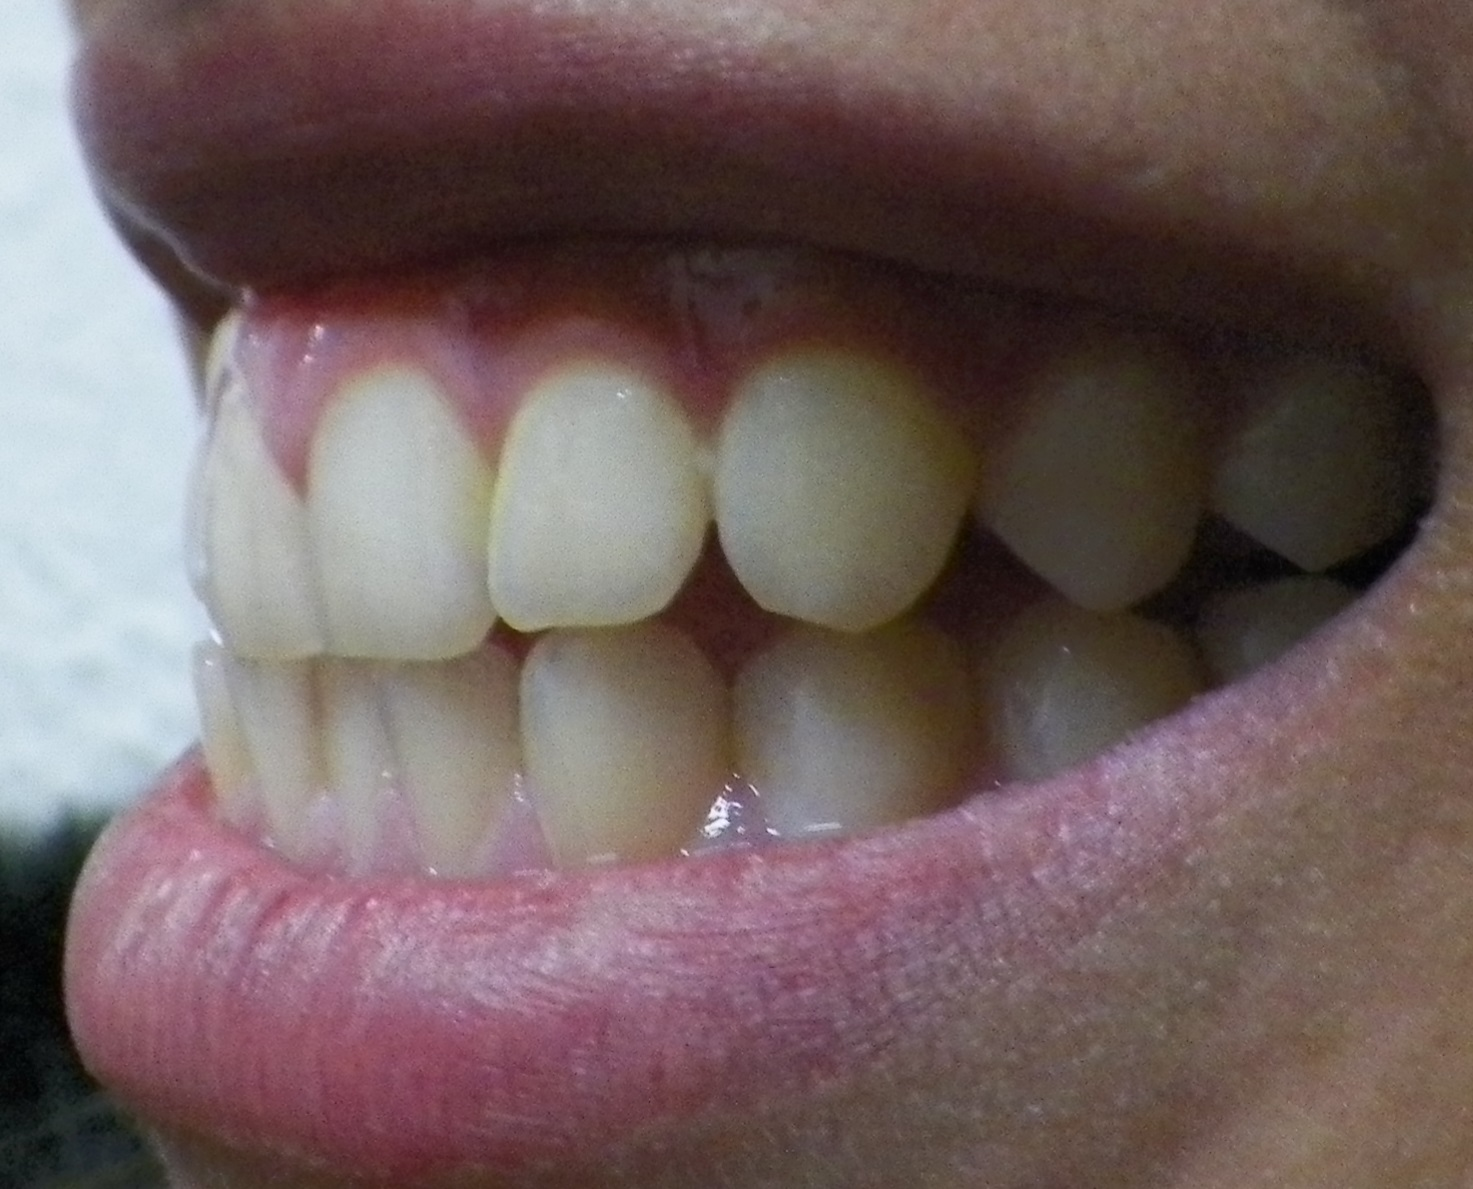boca: (181, 355, 1357, 875)
